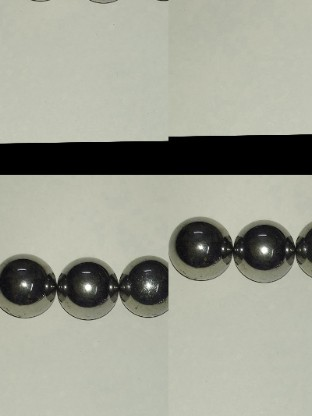ironball: (167, 212, 228, 285), (0, 245, 56, 323), (234, 218, 296, 288), (52, 255, 114, 324), (116, 249, 170, 326), (293, 214, 310, 286)
